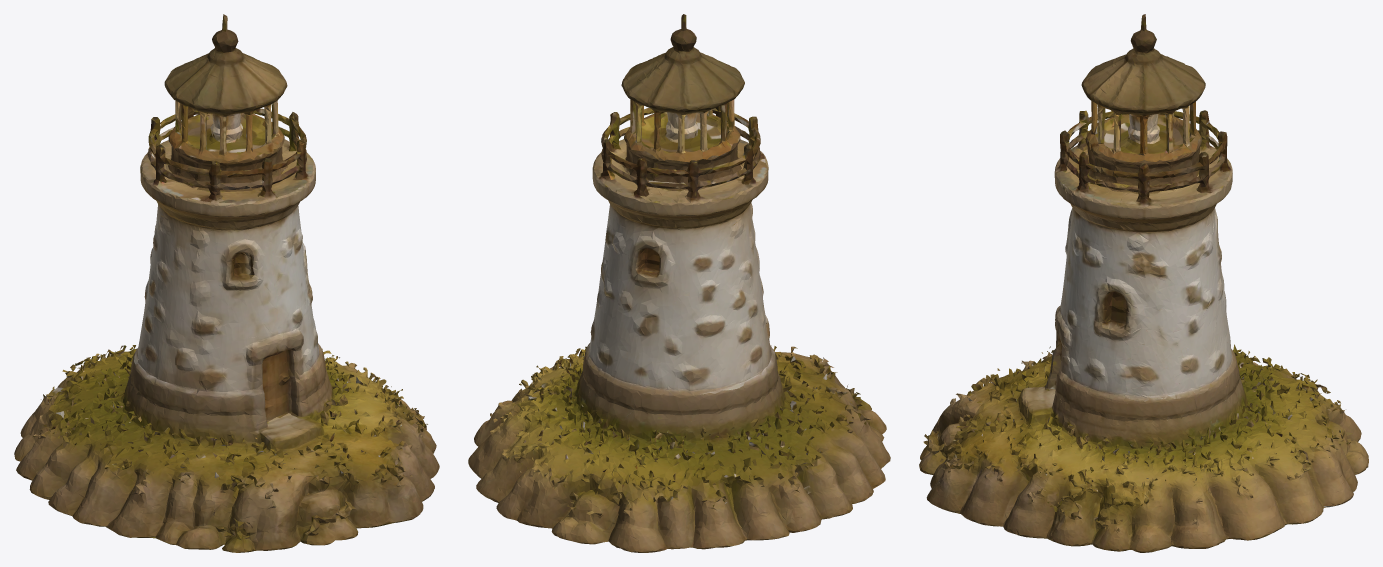
Rendered from wc-lighthouse-paint.glb.
3 renders of one model, left to right at view 1: azimuth 30°, elevation 25°; view 2: azimuth 150°, elevation 25°; view 3: azimuth 270°, elevation 25°, orthographic.
Parts seen in each view (by area): view 1: geometry_0; view 2: geometry_0; view 3: geometry_0.
Boxes of the visible parts, x1,y1,x2,y2 form: geometry_0: [14, 14, 439, 552]; geometry_0: [468, 14, 890, 552]; geometry_0: [919, 14, 1368, 552].
Bounding box in the file's own units: 1.71 × 1.99 × 1.81.
Materials: 1 (1 with a texture image).
